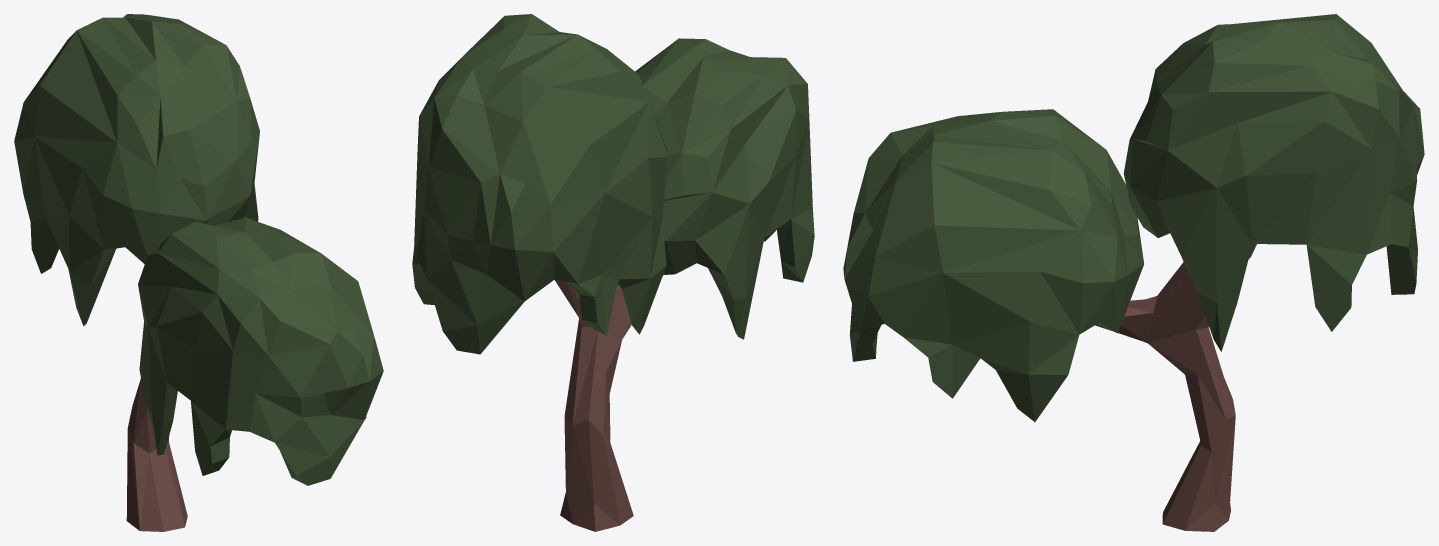
The model's file is Willow_5.lod1.glb.
3 views of the same model, side by side, from view 1: azimuth 30°, elevation 25°; view 2: azimuth 150°, elevation 25°; view 3: azimuth 270°, elevation 25° (orthographic). The views are drawn at different scales.
Parts seen in each view (by area): view 1: Willow_5; view 2: Willow_5; view 3: Willow_5.
Boxes of the visible parts, x1,y1,x2,y2 form: Willow_5: (14,14,383,531); Willow_5: (412,14,814,531); Willow_5: (843,14,1424,531).
Size of the model in its own units: 1.01 by 2.41 by 2.48.
